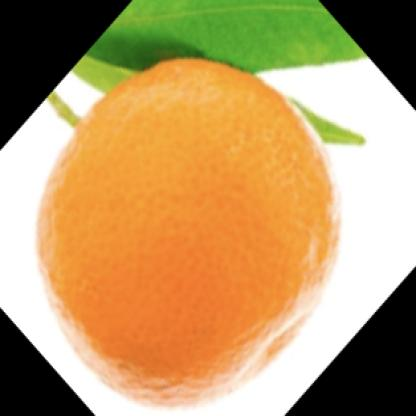fresh: (36, 58, 339, 411)
